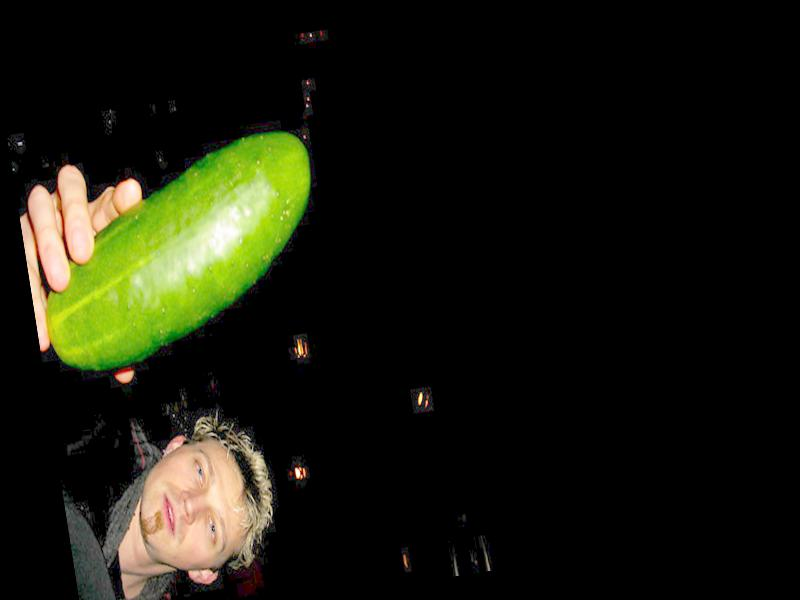Cucumber: (25, 126, 333, 373)
